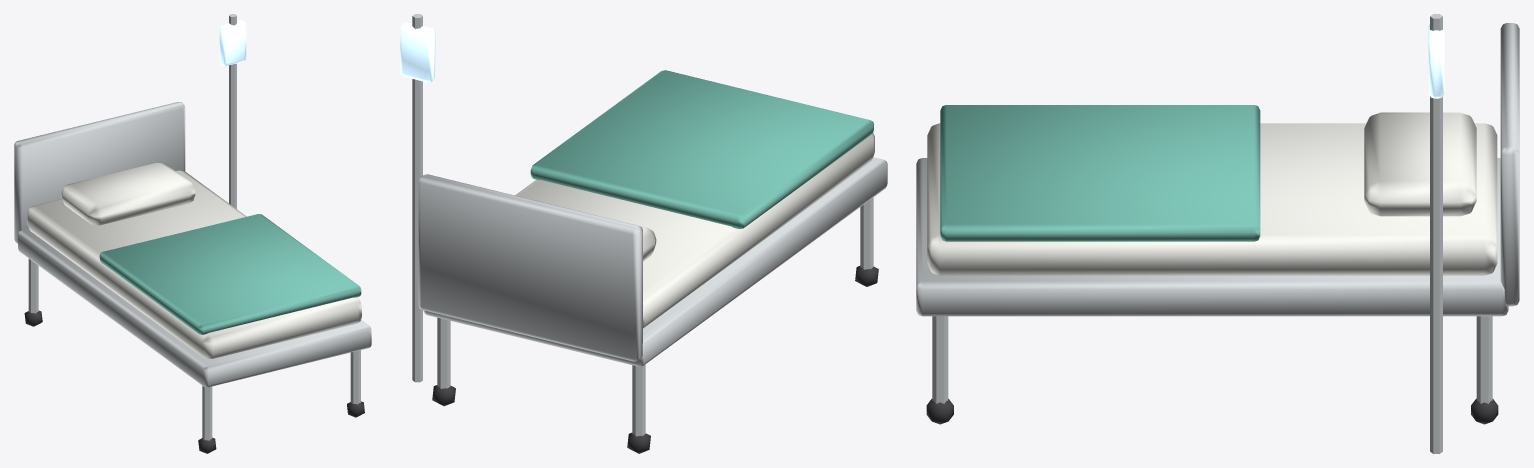
The model's file is v_furn_medbed.glb.
The picture shows the model from 3 angles, left to right: view 1: azimuth 30°, elevation 25°; view 2: azimuth 150°, elevation 25°; view 3: azimuth 270°, elevation 25°; orthographic projection. The views are drawn at different scales.
Visible parts, largest first — view 1: MedBed; view 2: MedBed; view 3: MedBed.
Boxes of the visible parts, <box> form: MedBed: <box>14,14,371,453</box>; MedBed: <box>400,14,887,453</box>; MedBed: <box>916,14,1519,453</box>.
Bounding box in the file's own units: 1.16 × 1.5 × 1.88.
